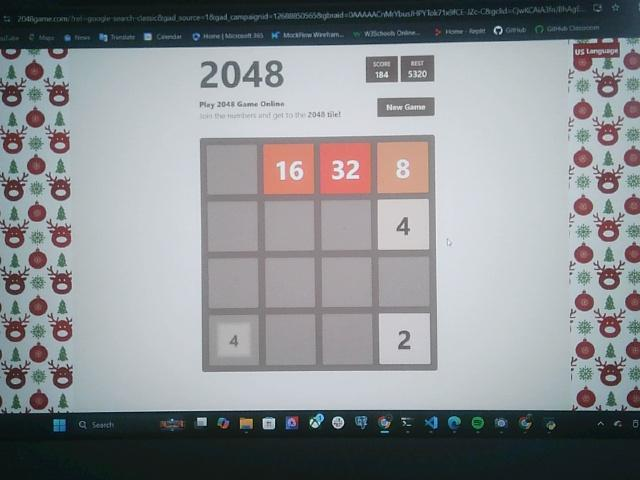best_score_box: (401, 56, 435, 83)
board: (201, 136, 437, 373)
button: (378, 97, 434, 117)
score_box: (365, 56, 399, 83)
tile: (262, 143, 316, 196), (378, 313, 432, 366), (321, 141, 373, 196), (377, 199, 431, 250), (377, 143, 430, 194)
